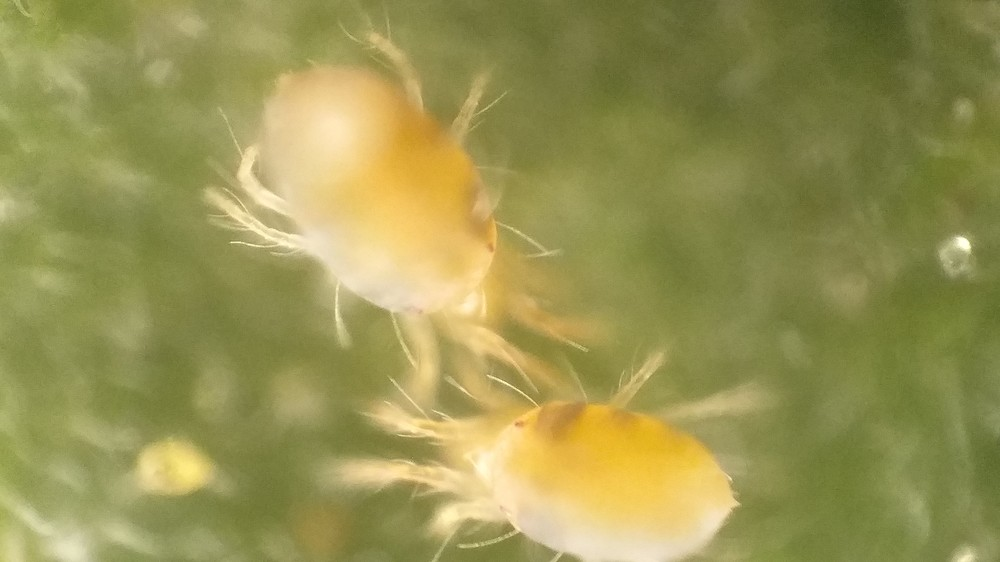Aracnido Rojo: (187, 27, 687, 395), (340, 367, 789, 562)
